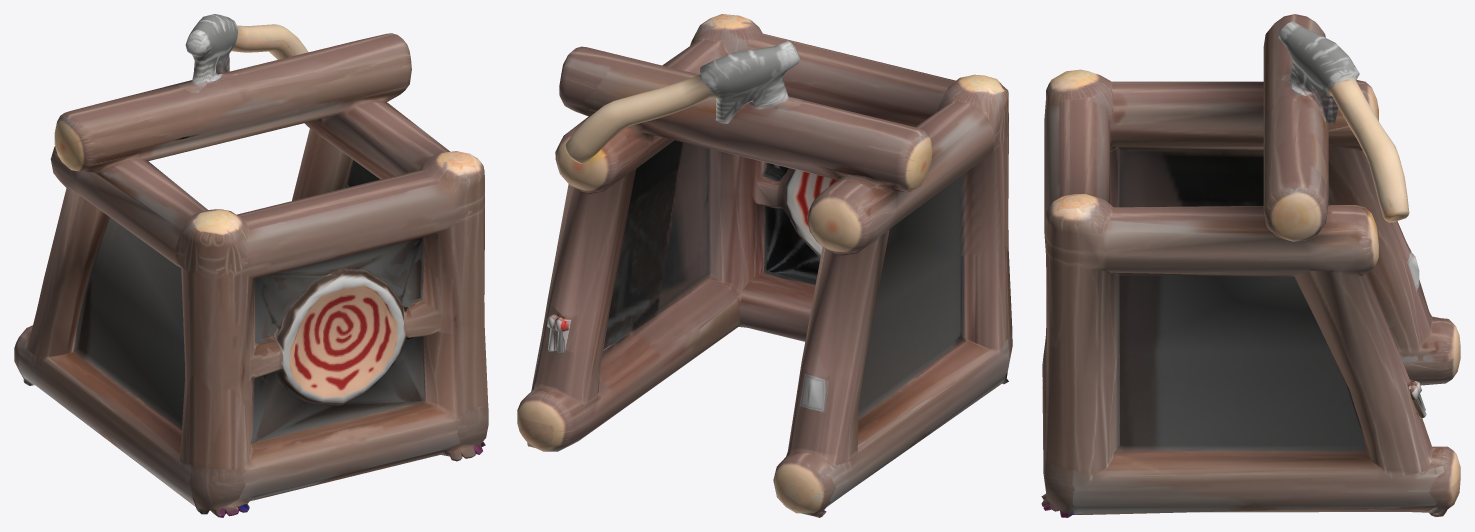
The model's file is Inflatable_Axe_Throwi_10FtTall_0208185600_texture.glb.
The picture shows the model from 3 angles, left to right: view 1: azimuth 30°, elevation 25°; view 2: azimuth 150°, elevation 25°; view 3: azimuth 270°, elevation 25°; orthographic projection. The views are drawn at different scales.
Visible parts, largest first — view 1: Mesh_0; view 2: Mesh_0; view 3: Mesh_0.
Boxes of the visible parts, x1,y1,x2,y2 form: Mesh_0: (14, 14, 488, 517); Mesh_0: (517, 14, 1012, 517); Mesh_0: (1041, 14, 1460, 517).
Size of the model in its own units: 2.87 by 3.05 by 2.87.
Materials: 1 (1 with a texture image).
